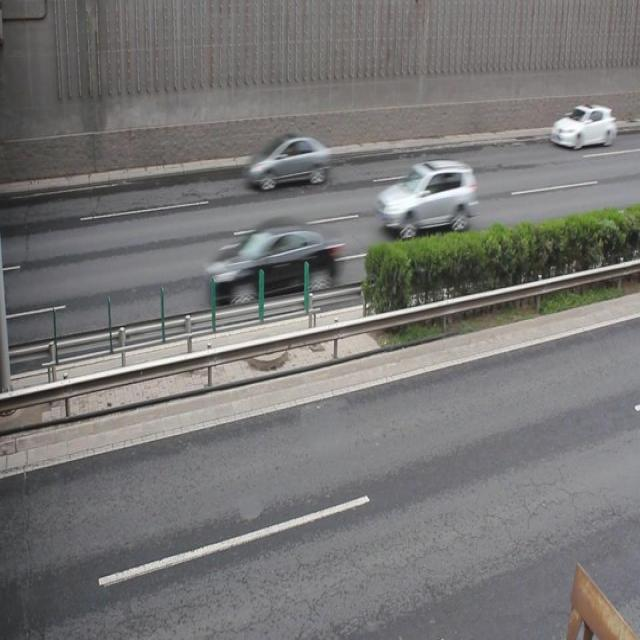car: (205, 216, 340, 308), (374, 155, 475, 237), (245, 129, 330, 189), (548, 100, 614, 151)
